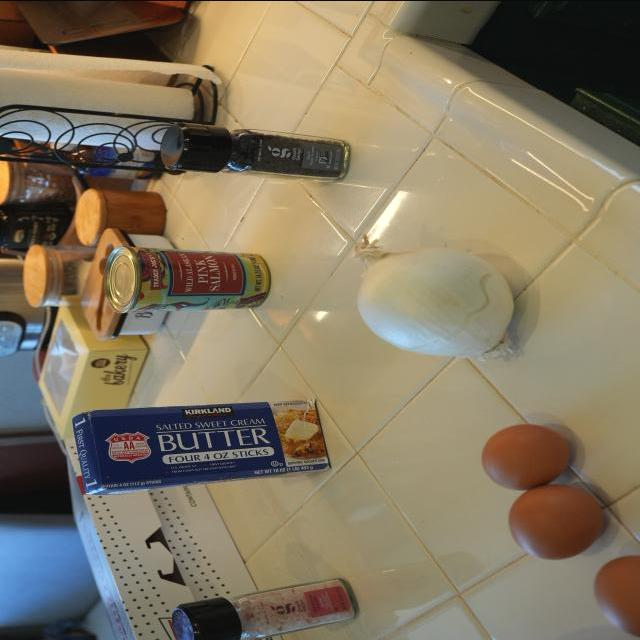bell_pepper: (157, 122, 361, 182)
egg: (488, 472, 624, 574), (472, 414, 579, 498), (594, 557, 640, 637)
onion: (339, 237, 548, 357)
